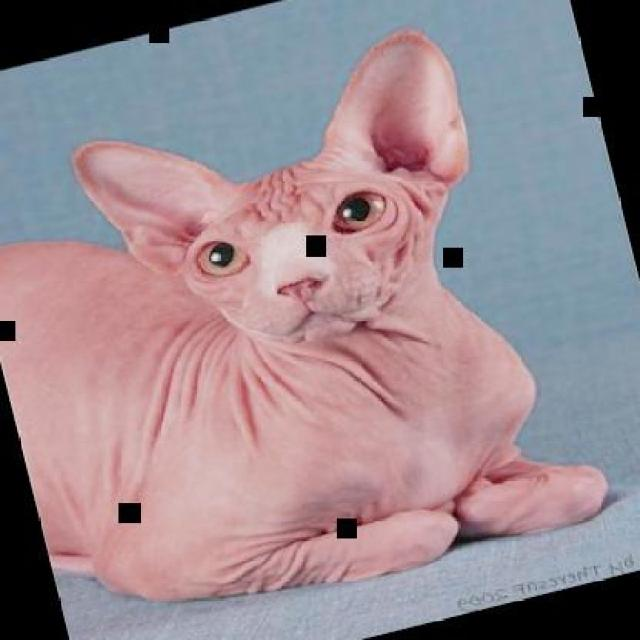cat: (0, 9, 617, 638)
